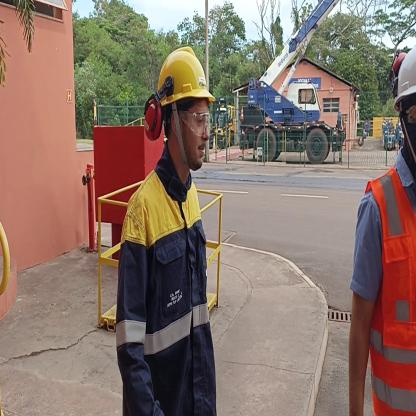Balaclava: (393, 99, 416, 186)
C_eletrica: (111, 97, 221, 416), (118, 167, 219, 416)
Capacete: (156, 46, 218, 109), (391, 47, 416, 101)
colete: (354, 184, 416, 416)
